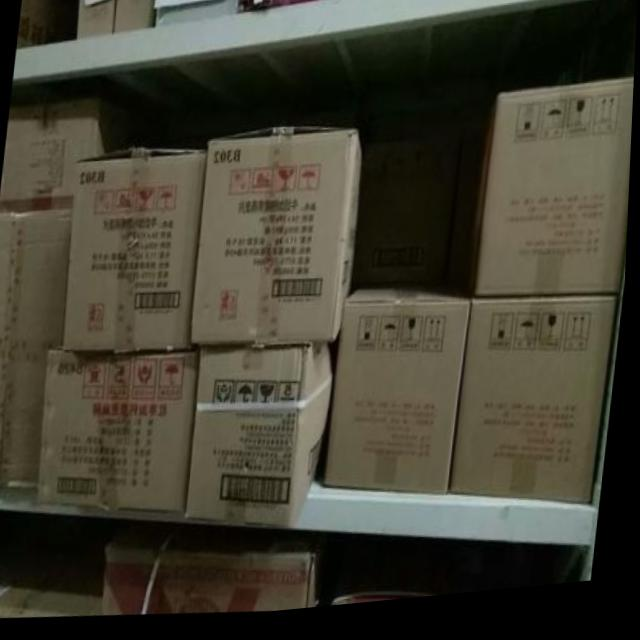box: (193, 133, 365, 347), (453, 306, 620, 516), (477, 91, 635, 305), (330, 295, 474, 503), (64, 151, 206, 354), (189, 349, 337, 533), (39, 351, 201, 518), (0, 212, 74, 488), (142, 544, 321, 617), (1, 120, 108, 199), (0, 582, 110, 618), (77, 0, 151, 41)
